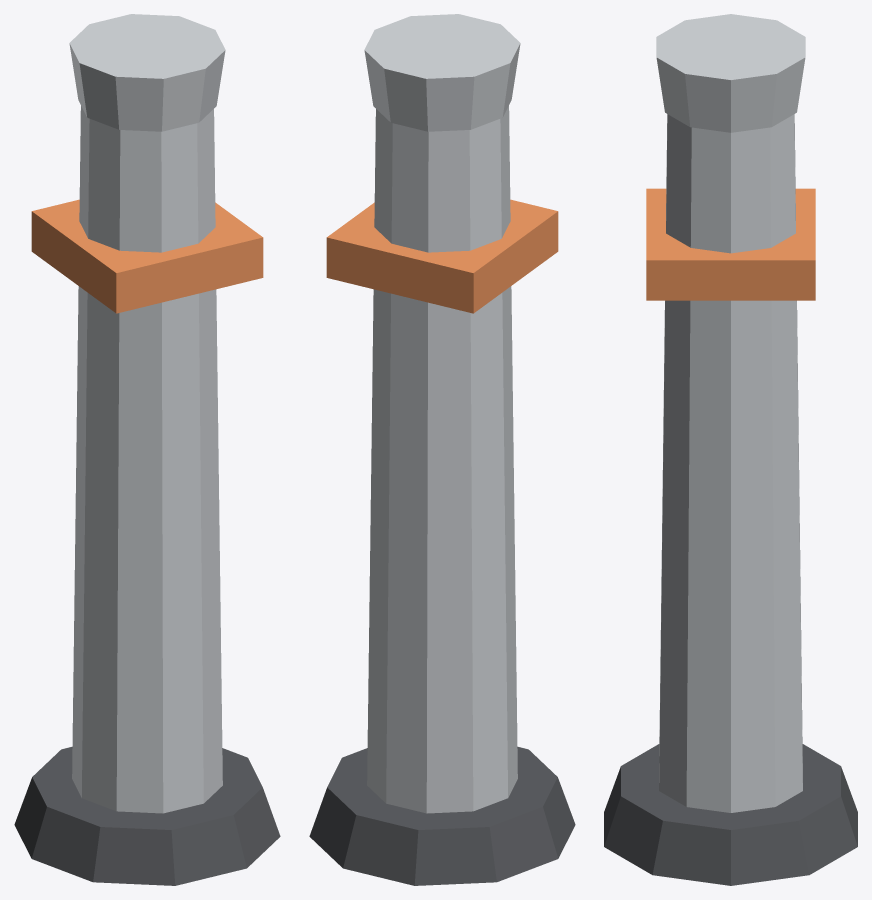
Rendered from skate-park-and-street-sports-bollard-1658cb81__33548.glb.
3 renders of one model, left to right at view 1: azimuth 30°, elevation 25°; view 2: azimuth 150°, elevation 25°; view 3: azimuth 270°, elevation 25°, orthographic.
Visible parts, largest first — view 1: bollard-steel, bollard-charcoal, bollard-sunset; view 2: bollard-steel, bollard-charcoal, bollard-sunset; view 3: bollard-steel, bollard-charcoal, bollard-sunset.
Boxes of the visible parts, x1=… form: bollard-steel: x1=69, y1=14, x2=225, y2=813; bollard-charcoal: x1=14, y1=746, x2=280, y2=885; bollard-sunset: x1=31, y1=199, x2=263, y2=313; bollard-steel: x1=364, y1=14, x2=520, y2=813; bollard-charcoal: x1=309, y1=746, x2=575, y2=885; bollard-sunset: x1=326, y1=199, x2=558, y2=313; bollard-steel: x1=656, y1=14, x2=805, y2=812; bollard-charcoal: x1=604, y1=744, x2=857, y2=885; bollard-sunset: x1=646, y1=188, x2=815, y2=300.
Bounding box in the file's own units: 0.3 × 0.97 × 0.2853.
